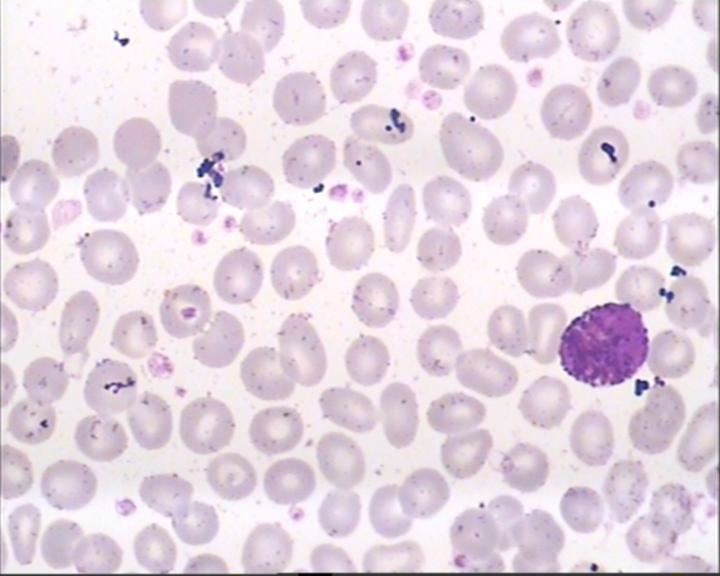baso: (552, 296, 650, 393)
